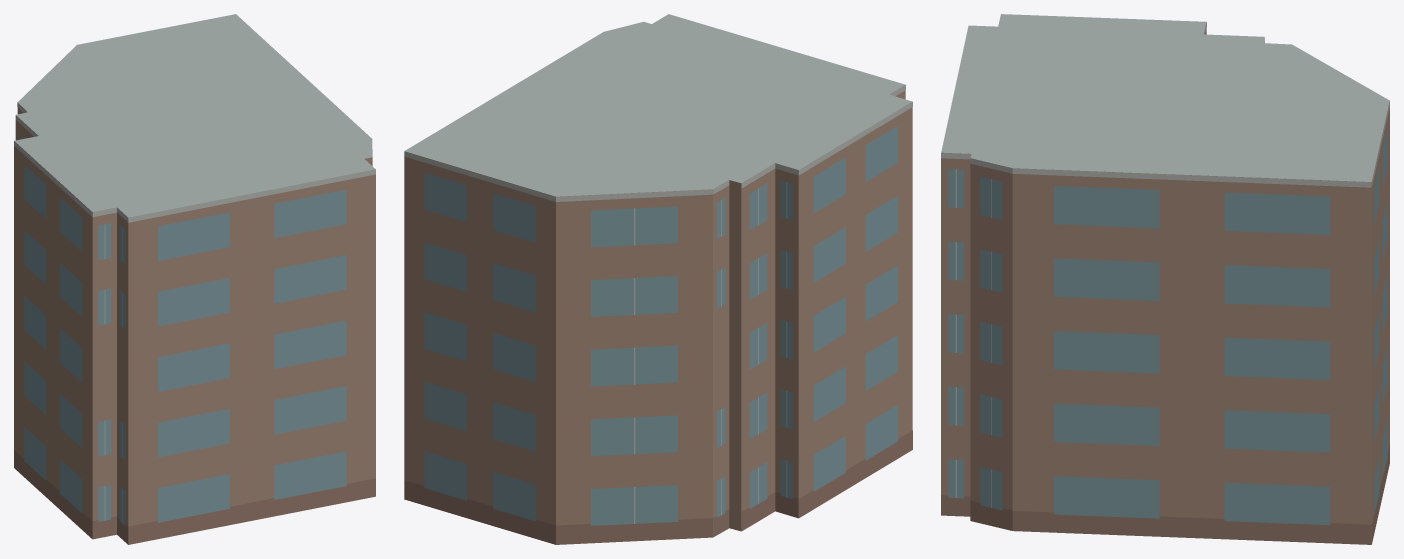
Rendered from survey-upis-32693613.glb.
3 views of the same model, side by side, from view 1: azimuth 30°, elevation 25°; view 2: azimuth 150°, elevation 25°; view 3: azimuth 270°, elevation 25° (orthographic). The views are drawn at different scales.
Parts seen in each view (by area): view 1: survey-upis-32693613.tmp; view 2: survey-upis-32693613.tmp; view 3: survey-upis-32693613.tmp.
Part boxes in pixels (x1,y1,x2,y2): survey-upis-32693613.tmp: (14, 14, 375, 544); survey-upis-32693613.tmp: (404, 14, 912, 544); survey-upis-32693613.tmp: (941, 14, 1389, 544).
Bounding box in the file's own units: 15.71 × 15.8 × 17.72.
